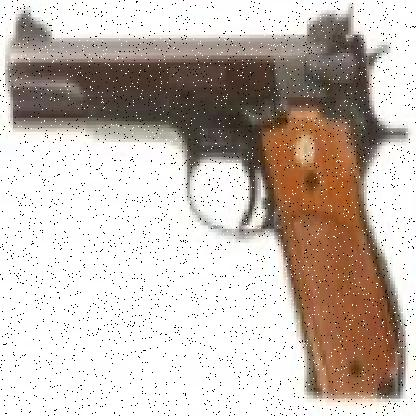pistol: (10, 3, 400, 395)
